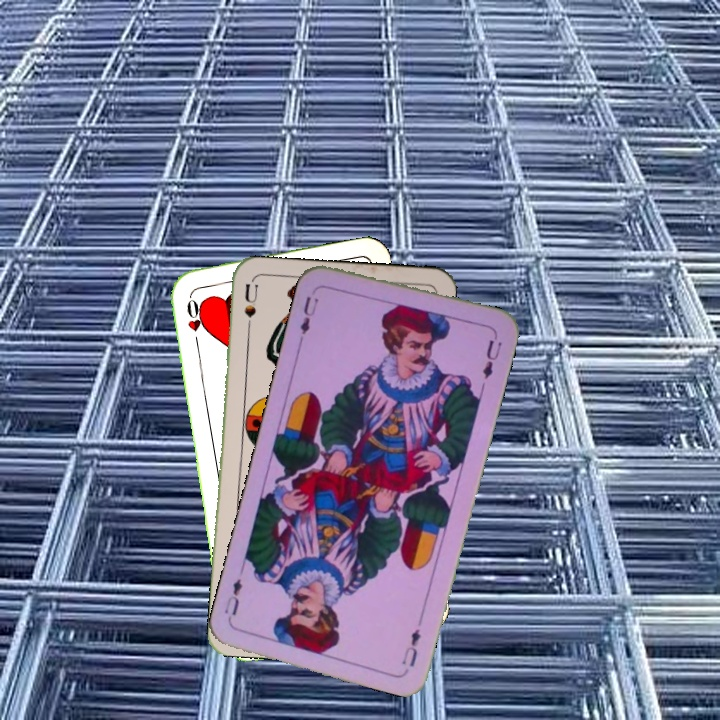EU: (296, 292, 322, 344), (397, 625, 423, 670)
HO: (182, 291, 205, 350)
SU: (240, 281, 261, 340)
